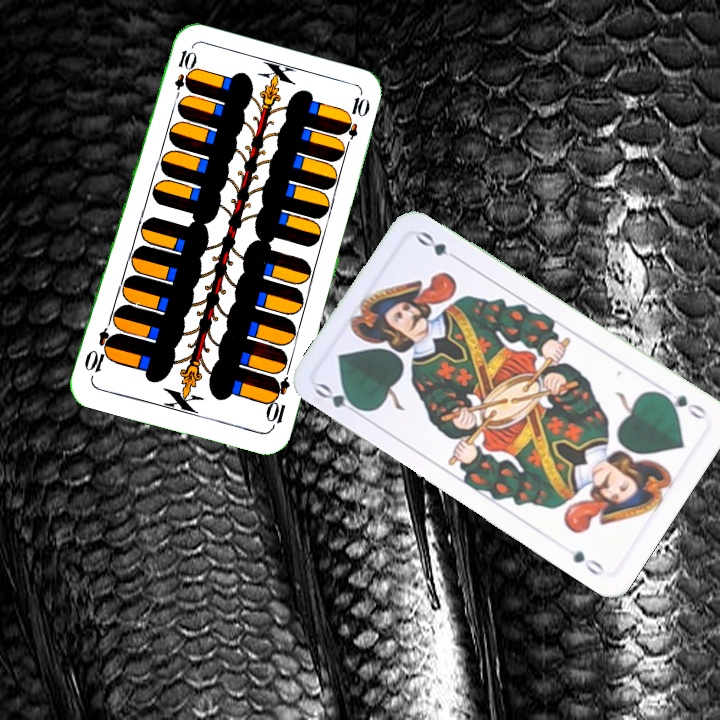E10: (261, 373, 293, 432), (170, 46, 197, 105)
GO: (311, 379, 368, 420), (654, 388, 709, 422)
